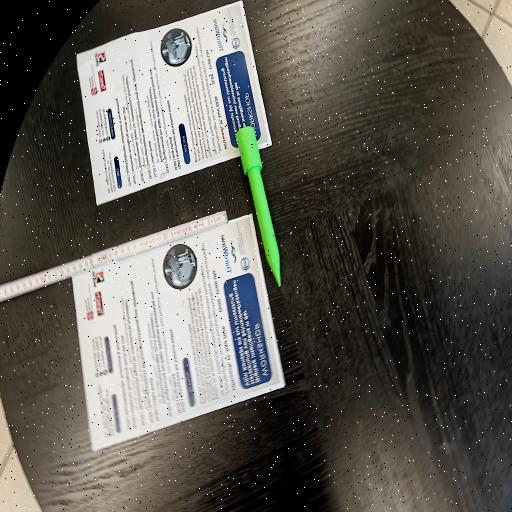Probe-Detection: (236, 128, 280, 285)
